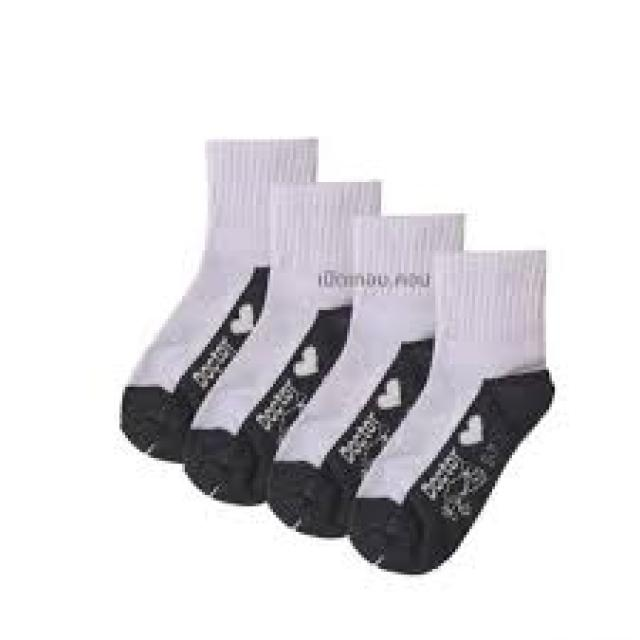sock: (347, 248, 555, 574), (116, 133, 318, 460)
